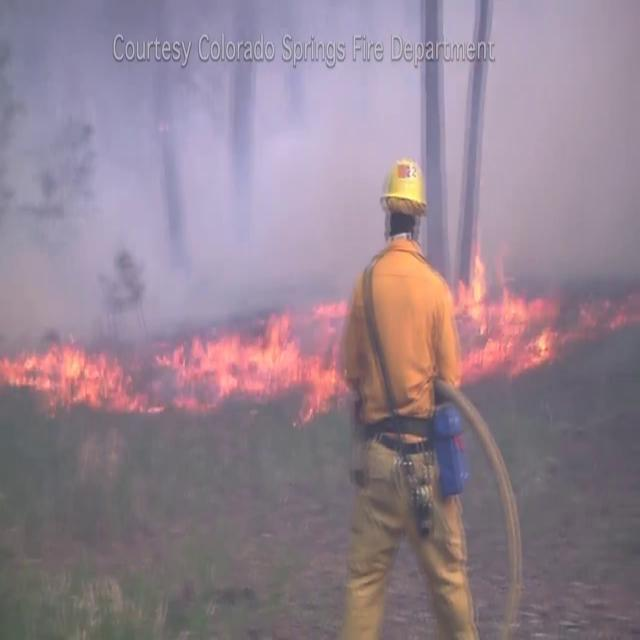Fire: (172, 304, 342, 412), (453, 236, 561, 376), (0, 325, 140, 413)
Smoke: (0, 0, 630, 335)
